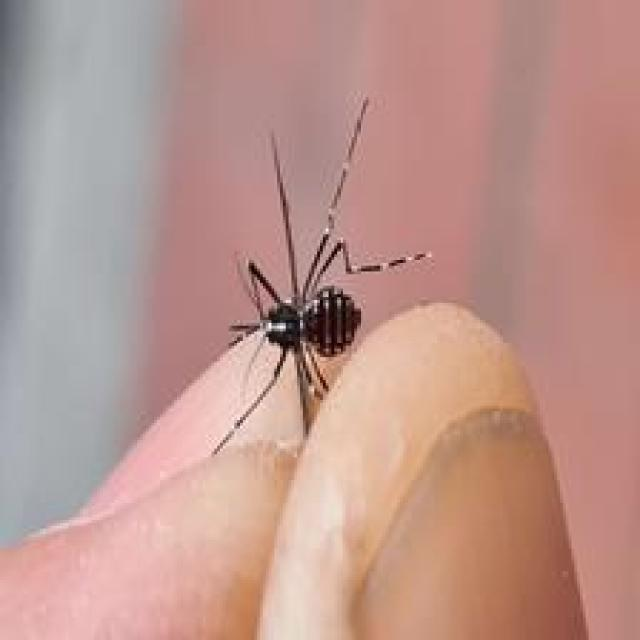Aedes albopictus: (207, 94, 433, 457)
